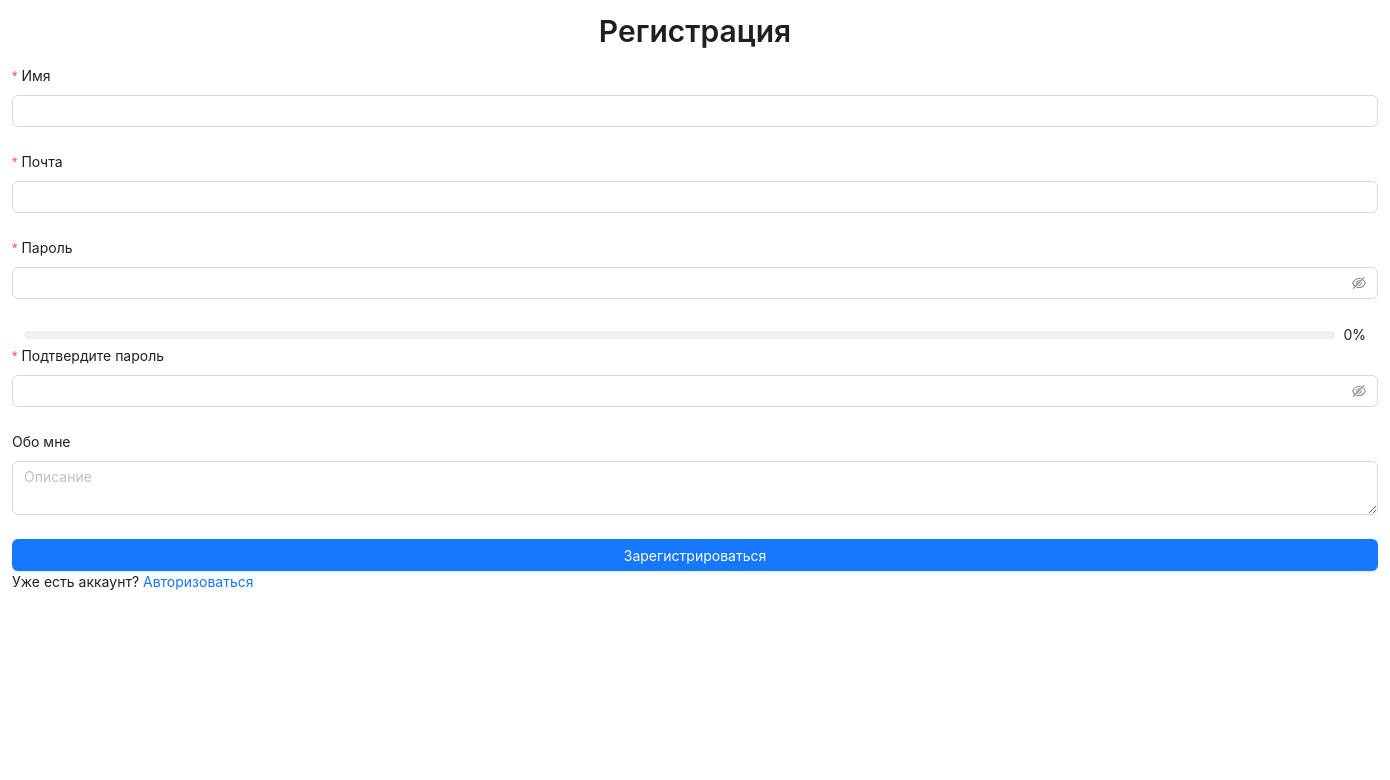
RegisterForm › validates required fields
What coordinates should you click on to do the following:
click the button "Зарегистрироваться"
I would click on:
 (695, 555)
Its box is [12,539,1378,571].
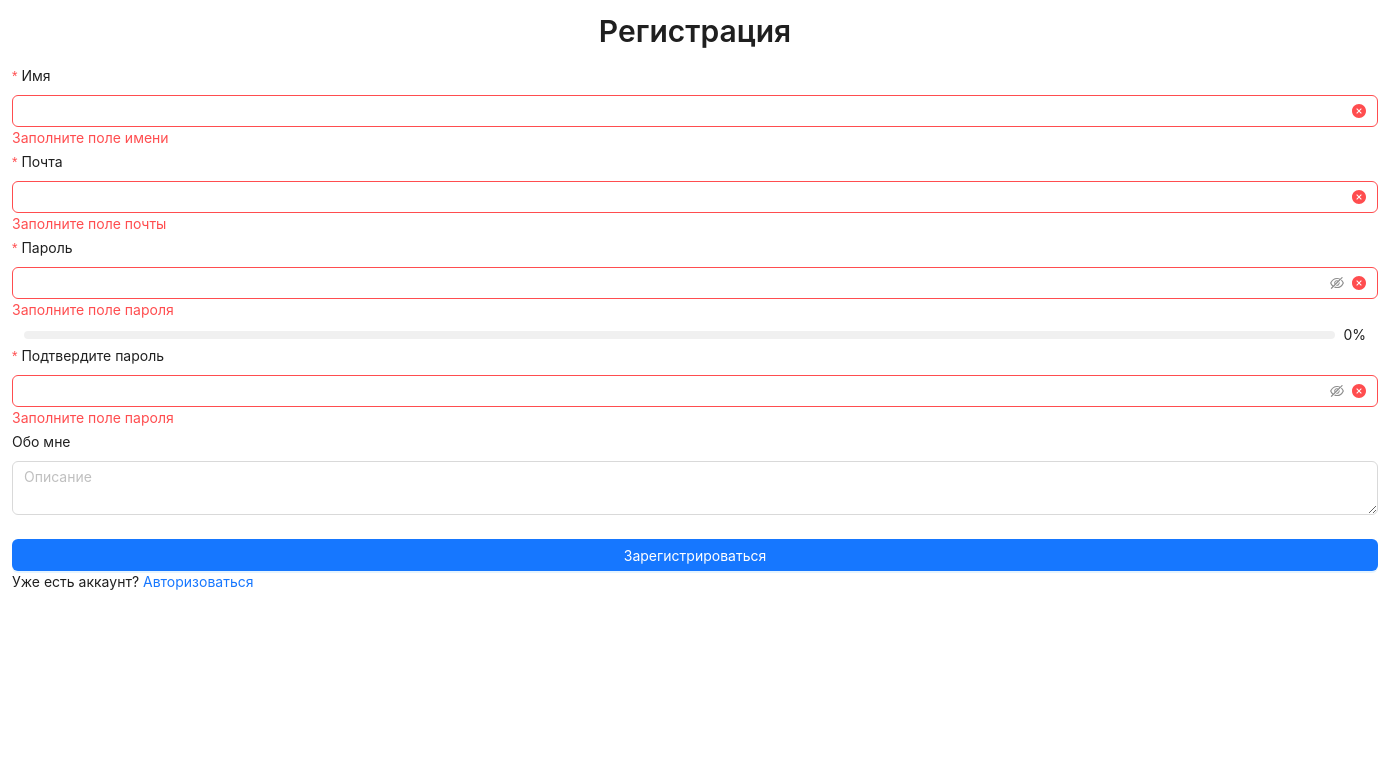
Expected: the text "Заполните поле имени" is shown, [12,129,169,146]
Expected: the text "Заполните поле почты" is shown, [12,215,166,232]
Expected: the 1st text "Заполните поле пароля" is shown, [12,301,174,318]
